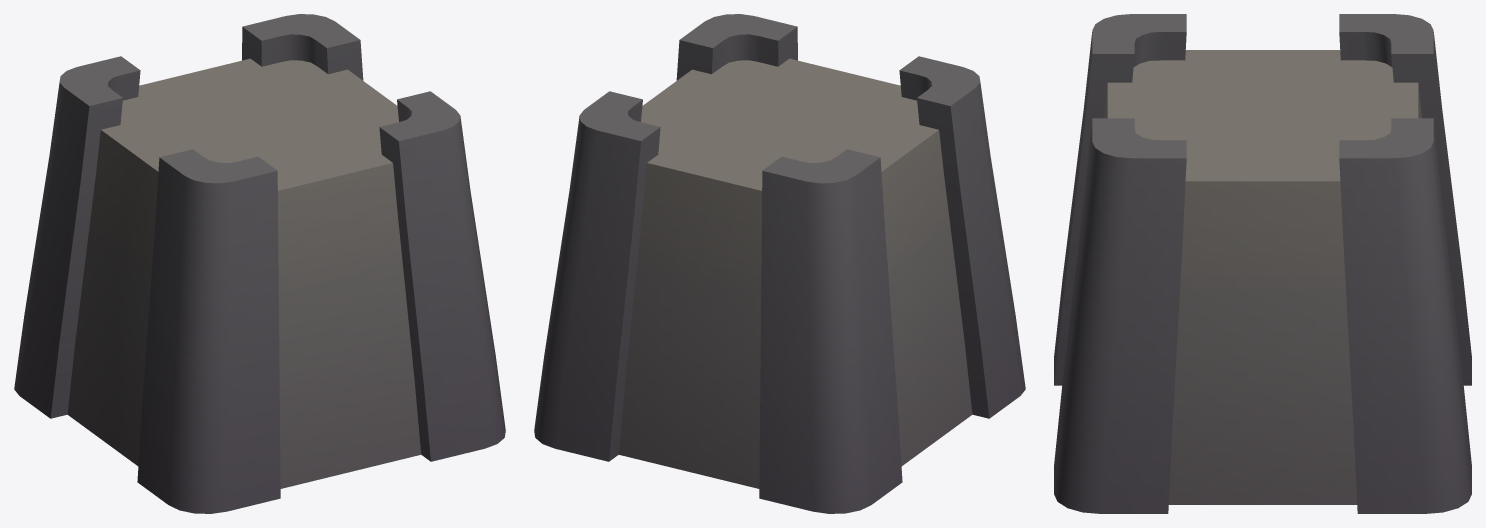
The model's file is mechTower_lvl1.fbx.
3 renders of one model, left to right at view 1: azimuth 30°, elevation 25°; view 2: azimuth 150°, elevation 25°; view 3: azimuth 270°, elevation 25°, orthographic. The views are drawn at different scales.
Parts seen in each view (by area): view 1: canTwr_lvl1; view 2: canTwr_lvl1; view 3: canTwr_lvl1.
Boxes of the visible parts, x1,y1,x2,y2 form: canTwr_lvl1: (14,14,505,513); canTwr_lvl1: (534,14,1025,513); canTwr_lvl1: (1054,14,1471,513).
Size of the model in its own units: 147 by 132 by 147.
